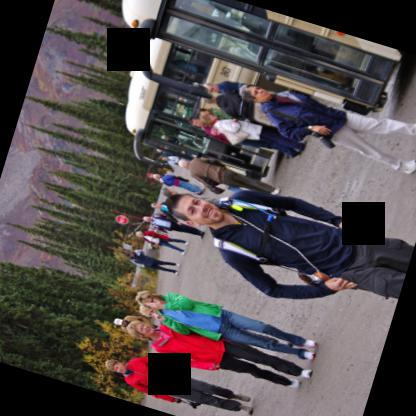backpack: (212, 195, 288, 265)
handbag: (217, 119, 249, 145), (312, 130, 336, 147)
